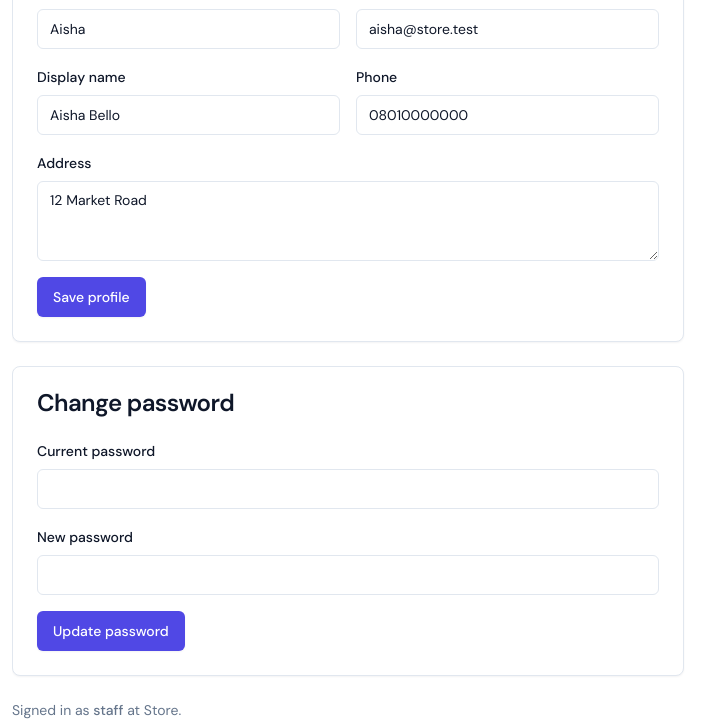
Test case: Settings › requires the current password before changing
The image size is (701, 720).
(page scrolled)
Expected: the field showing "Aisha Bello" is shown, [37, 95, 340, 135]
Click the button "Update password" at (111, 631), box [37, 611, 185, 651]
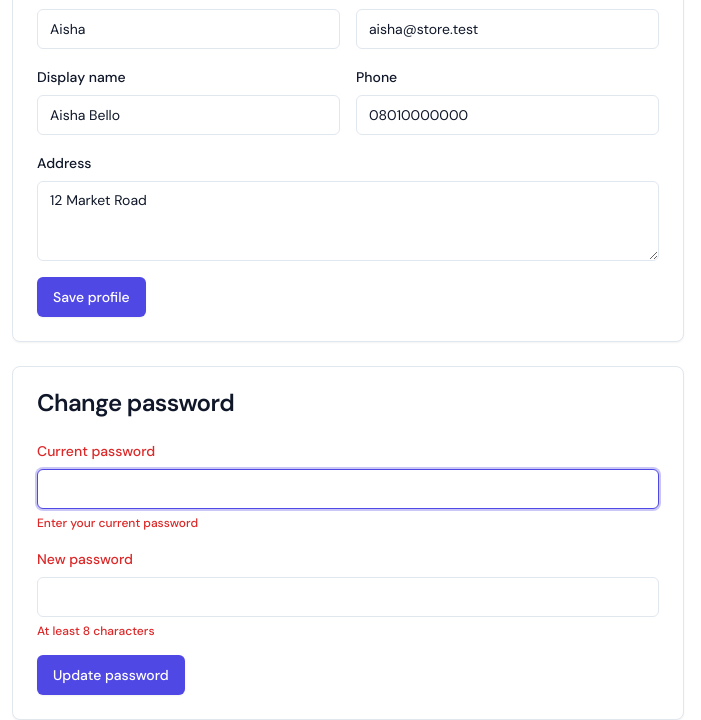
Now the text "Enter your current password" is shown, box [37, 515, 198, 531]
